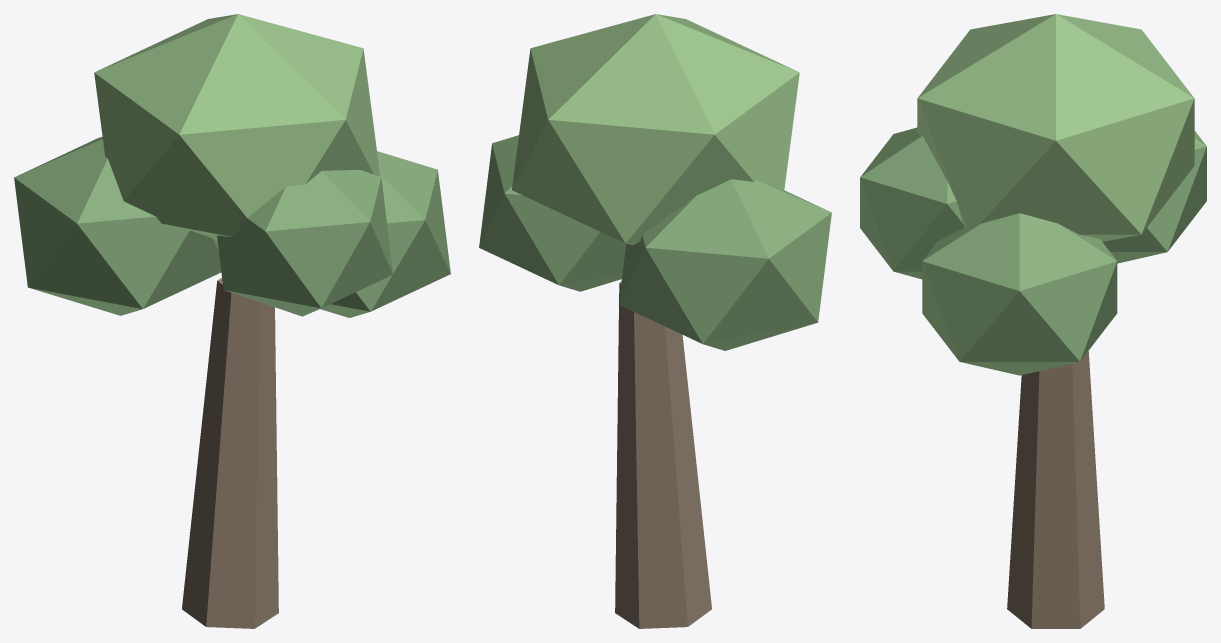
The model's file is tree_oak.glb.
3 views of the same model, side by side, from view 1: azimuth 30°, elevation 25°; view 2: azimuth 150°, elevation 25°; view 3: azimuth 270°, elevation 25° (orthographic).
Parts seen in each view (by area): view 1: tree_oak; view 2: tree_oak; view 3: tree_oak.
Boxes of the visible parts, box(x1,y1,x2,y2) form: tree_oak: box(14, 14, 450, 628); tree_oak: box(479, 14, 831, 628); tree_oak: box(860, 14, 1206, 628).
Bounding box in the file's own units: 0.3544 × 0.5496 × 0.2874.
